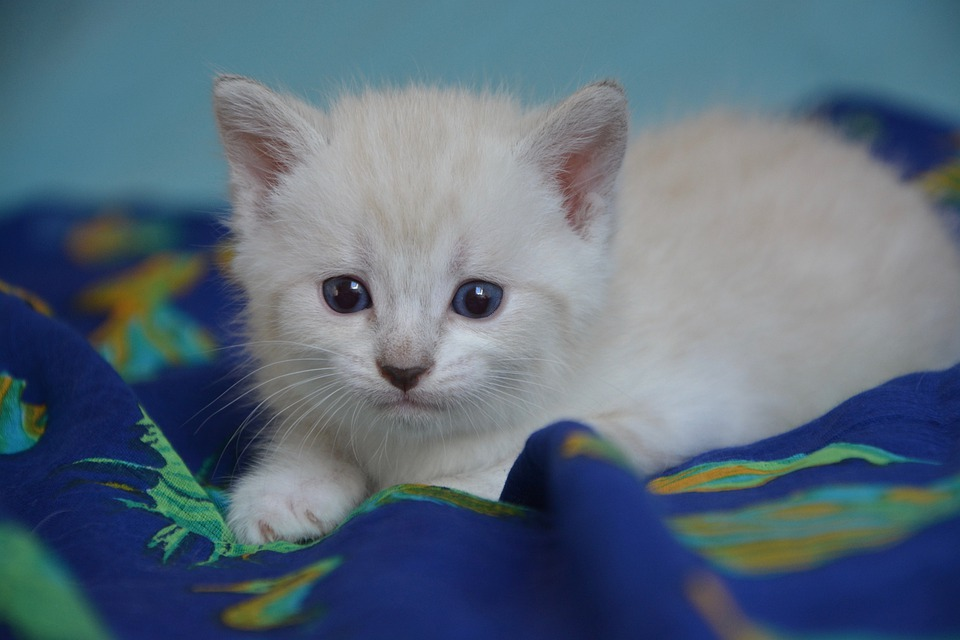cat: (175, 43, 960, 547)
cat-face: (197, 58, 638, 454)
